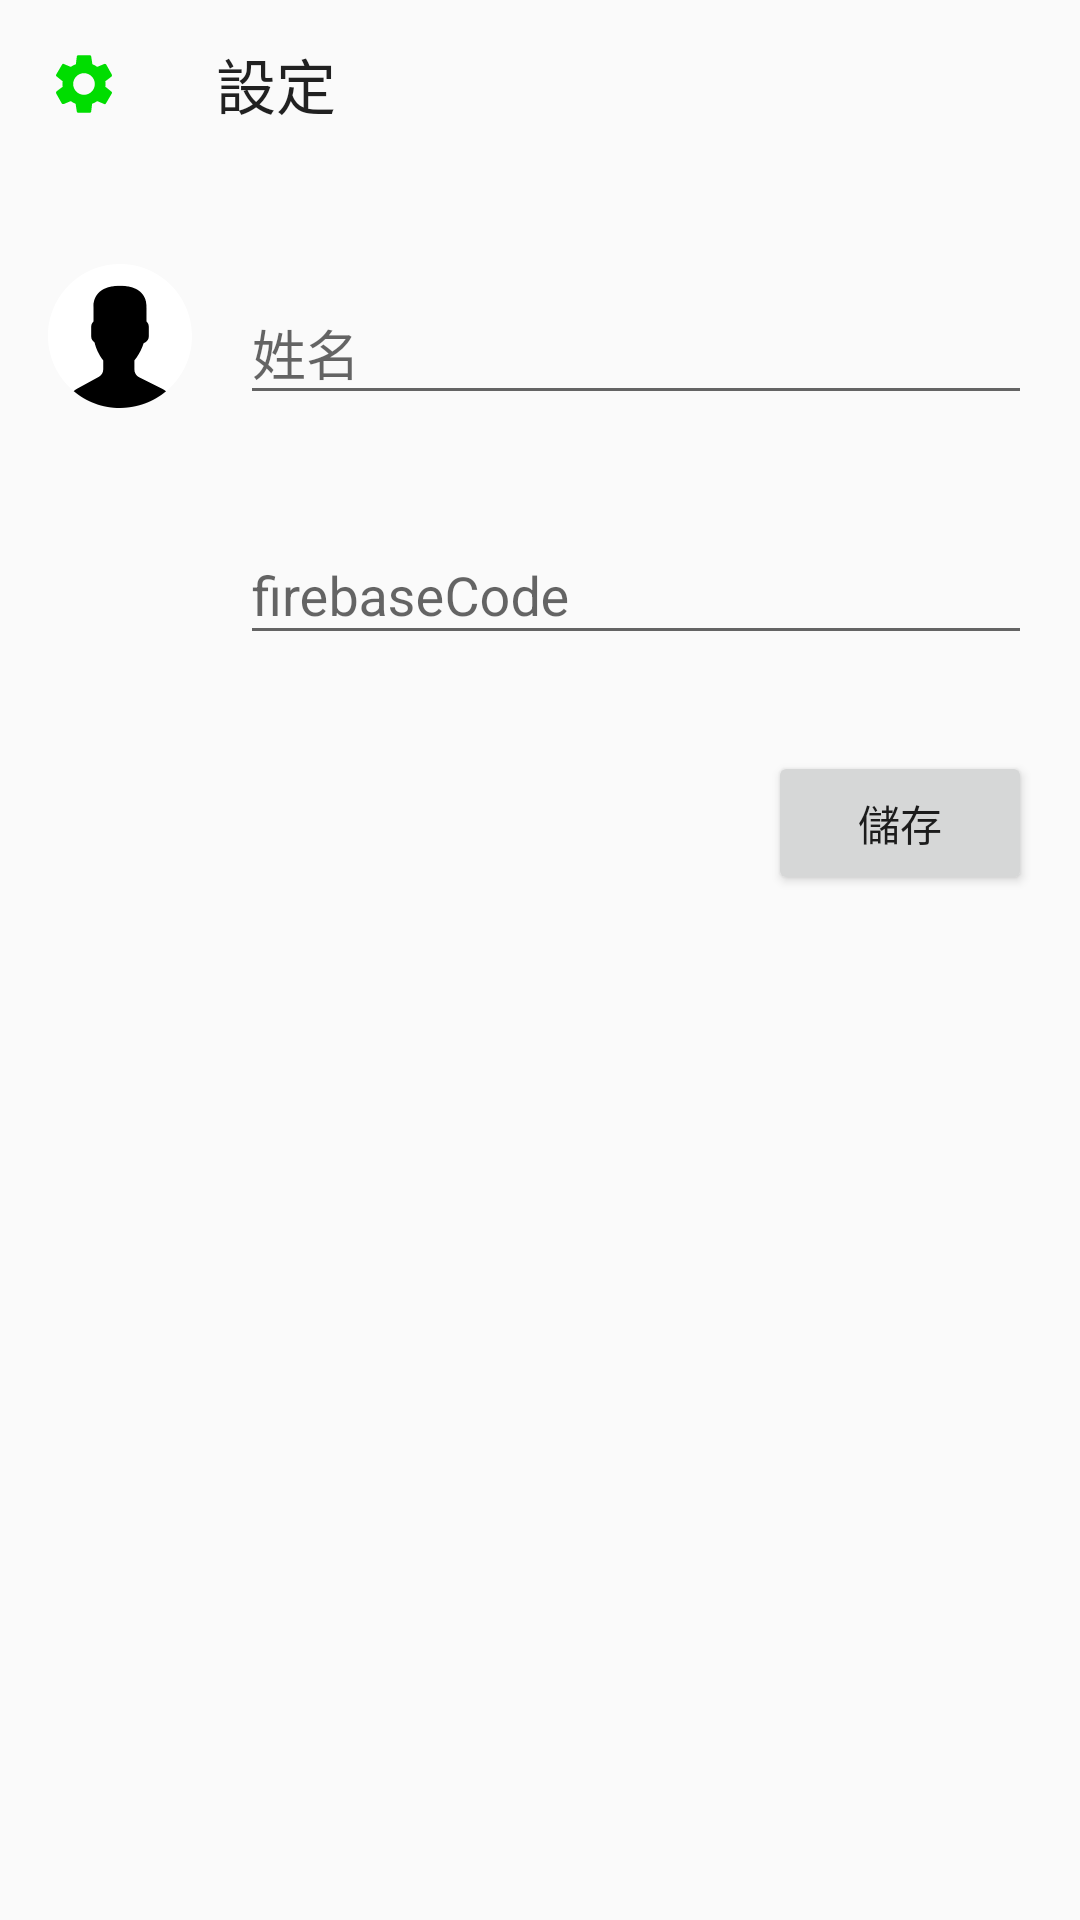

Icons on this 1080×1920 Android screen, each with the point to tap as [x,y]:
user: [120,346]
